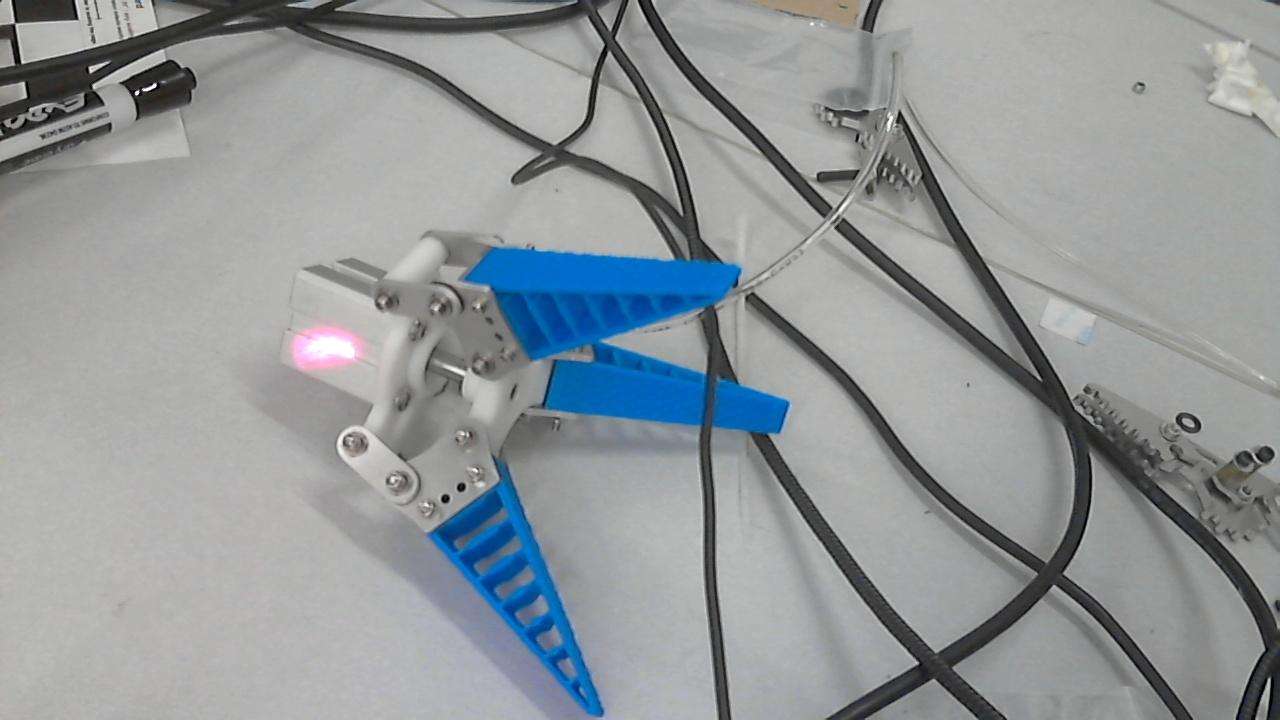Object robotic gripper finger assembly - Material metal - Pdfname Yy6dySnH33wN: (273, 311, 369, 377)
